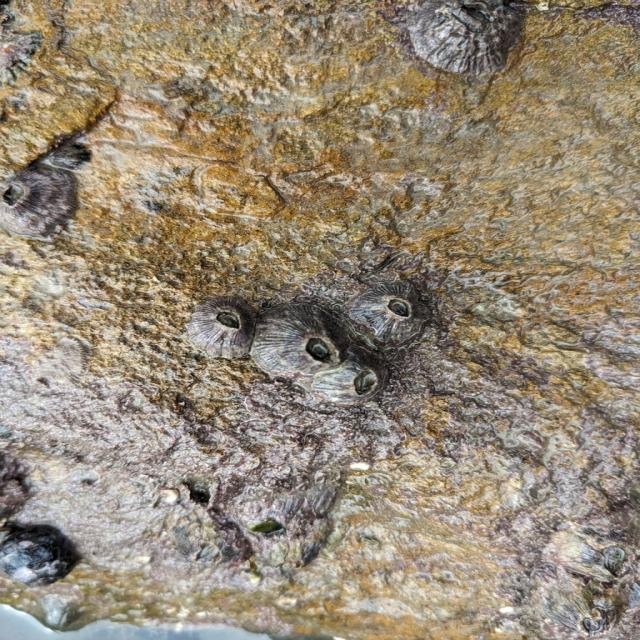barnacles: (384, 0, 522, 76), (257, 290, 345, 385), (347, 285, 440, 350), (178, 293, 246, 365), (321, 363, 390, 411)
